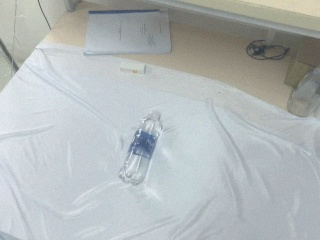bottle: (120, 110, 162, 186), (287, 64, 320, 118)
